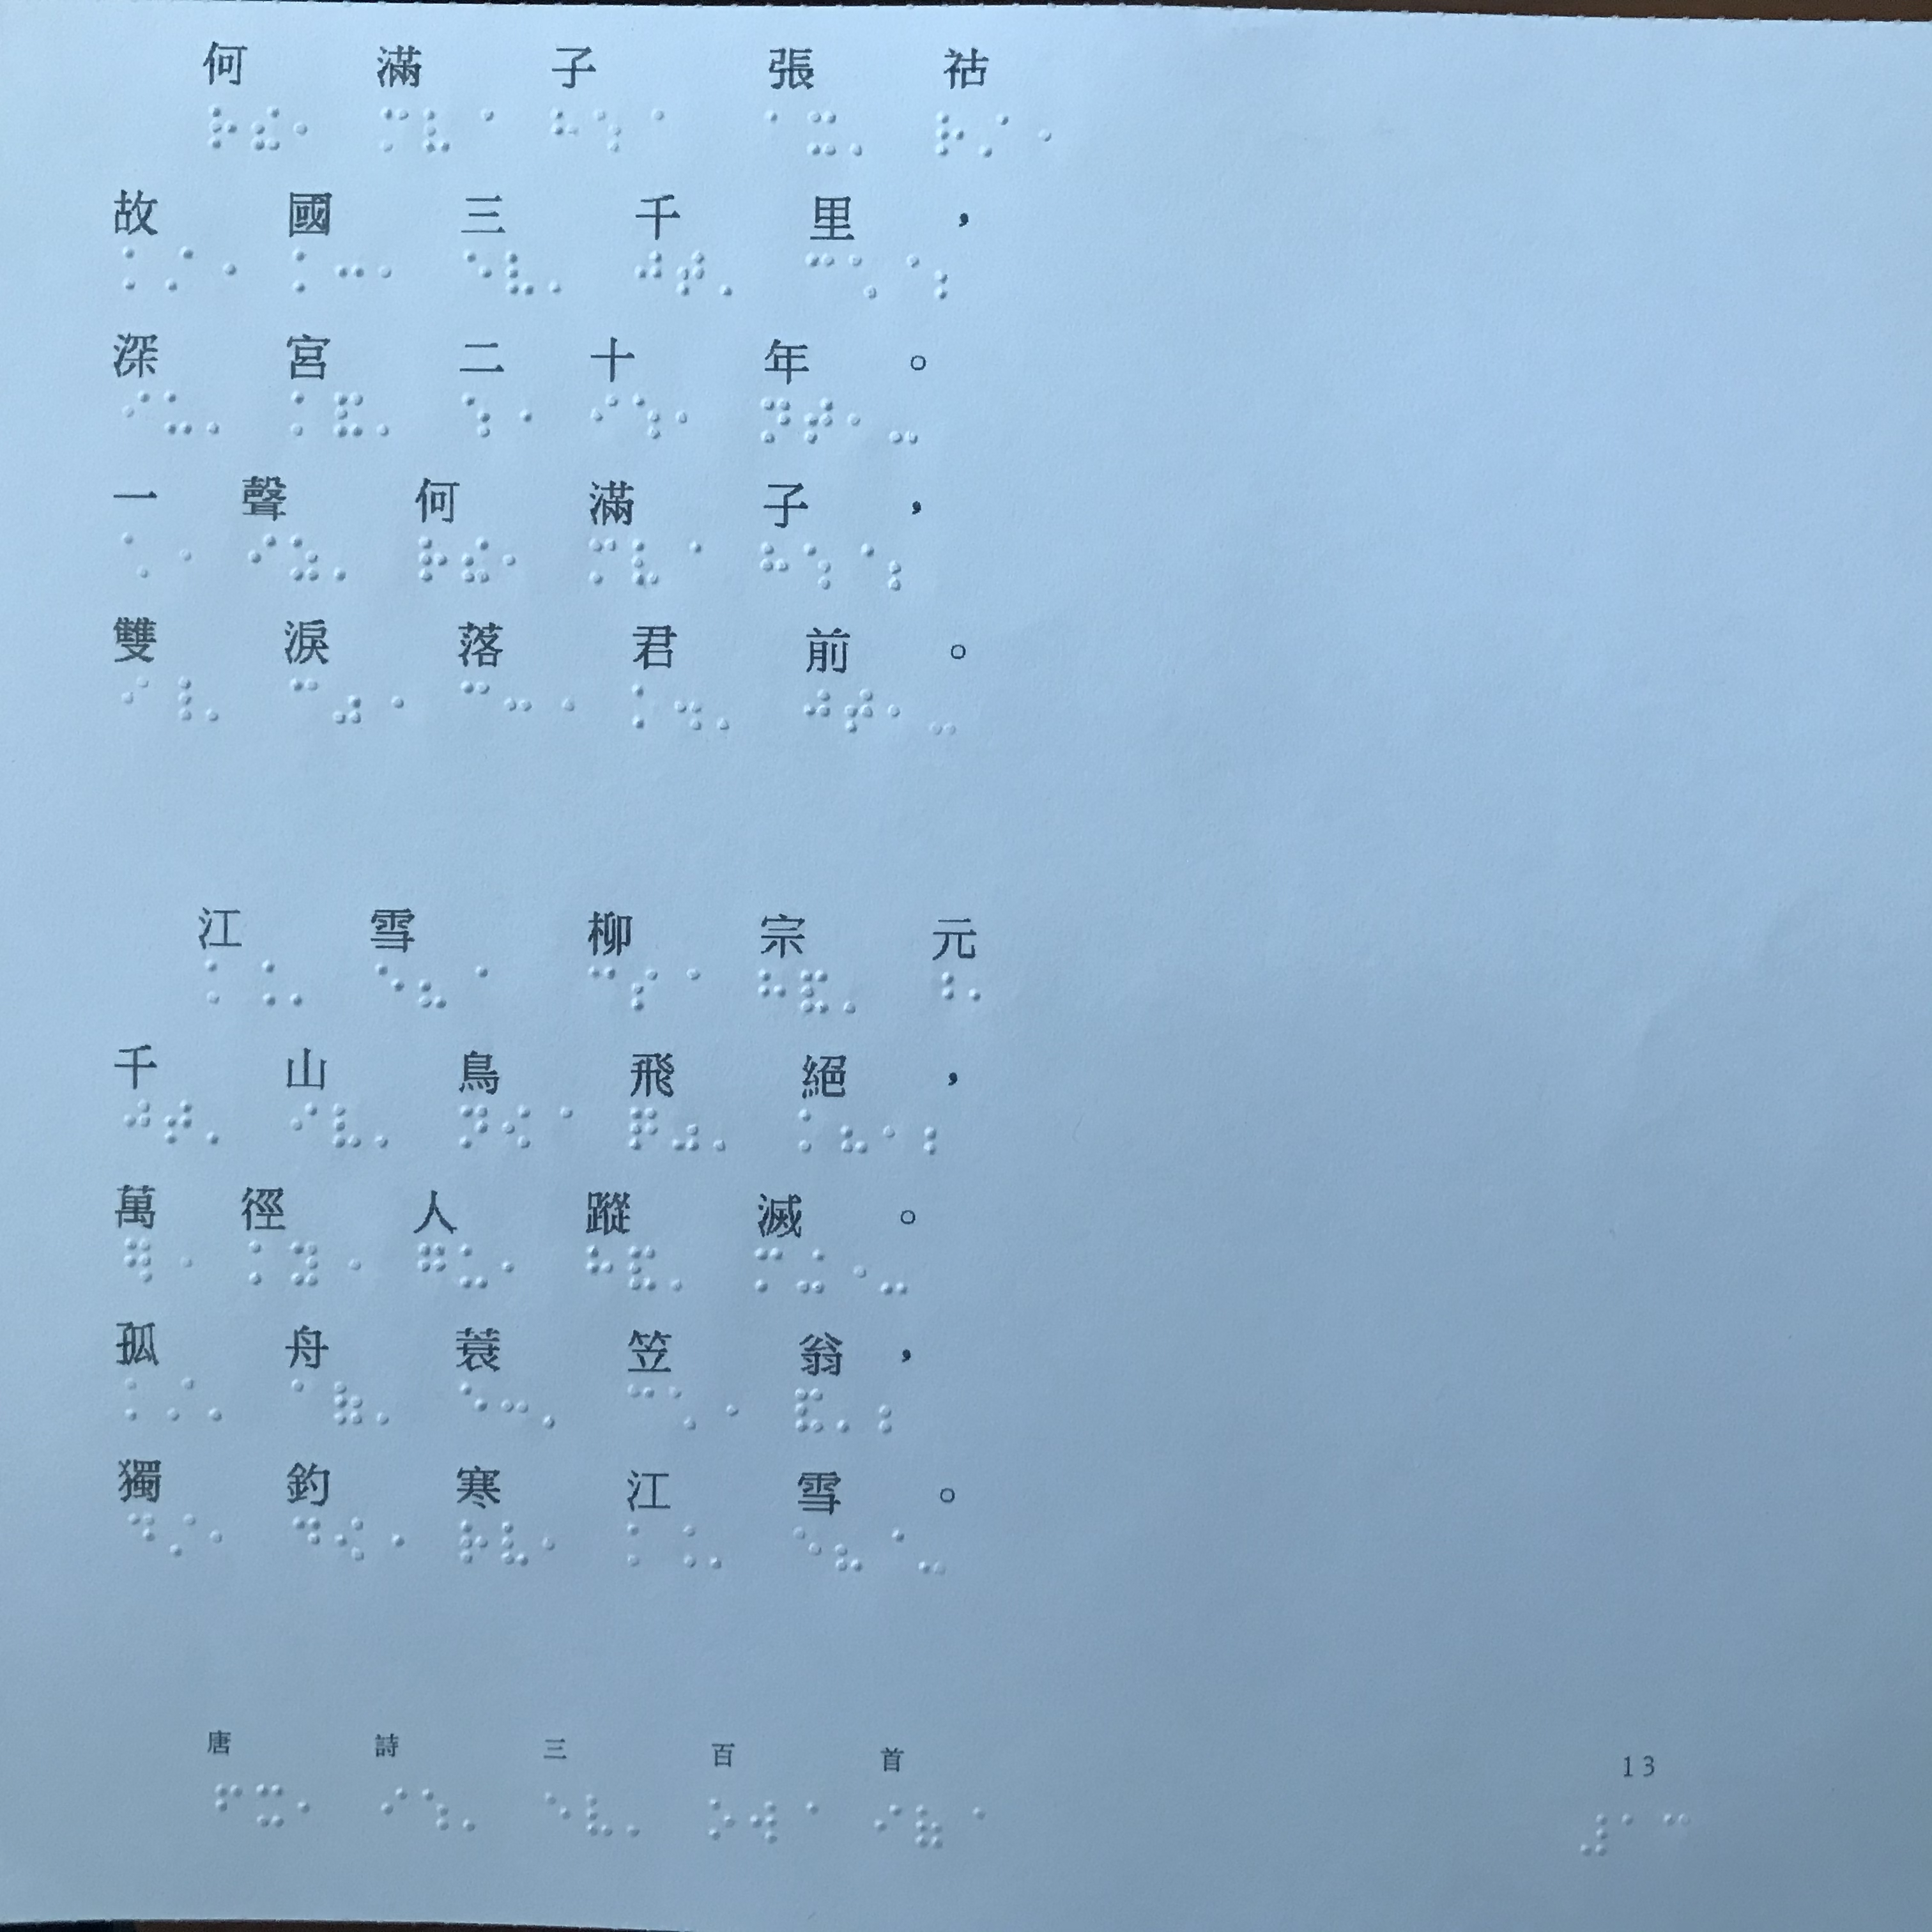Braille: (333, 389, 370, 442), (932, 249, 968, 304), (888, 398, 920, 453), (329, 676, 363, 727), (120, 529, 150, 586), (499, 1380, 531, 1433), (248, 103, 281, 152), (803, 540, 833, 594), (462, 391, 494, 442), (460, 534, 492, 586), (927, 688, 959, 740), (798, 964, 830, 1016), (628, 1104, 660, 1155), (456, 1242, 488, 1293), (794, 1385, 826, 1437), (456, 1518, 488, 1569), (499, 1518, 531, 1569), (665, 1523, 697, 1575), (759, 398, 794, 444), (163, 1376, 198, 1422), (885, 545, 918, 593), (761, 540, 789, 596), (936, 108, 966, 161), (587, 534, 617, 587), (122, 1233, 152, 1286), (506, 249, 538, 299), (676, 249, 708, 299), (805, 396, 837, 446), (842, 541, 874, 591), (667, 1385, 699, 1435), (127, 1509, 159, 1559), (504, 676, 533, 731), (1578, 1815, 1612, 1861), (809, 108, 839, 159), (849, 108, 879, 159), (290, 533, 320, 584), (161, 674, 191, 725), (257, 1782, 287, 1833), (763, 108, 794, 156), (458, 676, 490, 724), (203, 957, 235, 1005), (587, 964, 619, 1012), (288, 1242, 320, 1290), (881, 1251, 913, 1299), (165, 387, 193, 441), (423, 106, 453, 156), (379, 393, 409, 442), (591, 393, 621, 442), (373, 961, 403, 1010), (419, 961, 449, 1010), (333, 1100, 363, 1150), (628, 1244, 658, 1293), (747, 1798, 777, 1847), (888, 251, 920, 297), (120, 389, 152, 435), (927, 968, 959, 1014), (288, 1100, 320, 1146), (212, 1780, 244, 1826), (872, 1799, 904, 1845), (287, 389, 315, 441), (633, 393, 662, 444), (847, 396, 876, 448), (632, 538, 660, 589), (336, 1513, 364, 1564), (980, 111, 1010, 159), (288, 676, 318, 724), (846, 686, 876, 734), (163, 1097, 193, 1145), (209, 1380, 239, 1428), (878, 1389, 908, 1437), (625, 1522, 655, 1569), (708, 1525, 738, 1573), (853, 251, 879, 304), (628, 685, 660, 729), (628, 966, 660, 1010), (211, 103, 239, 152), (336, 249, 364, 299), (674, 538, 702, 587), (248, 957, 276, 1007), (502, 1102, 531, 1152), (672, 1106, 701, 1155), (793, 1525, 821, 1575), (835, 1527, 863, 1576), (915, 1801, 943, 1851), (165, 246, 195, 292), (120, 672, 150, 718), (669, 964, 699, 1010), (460, 1104, 490, 1150), (458, 1382, 488, 1428), (628, 1382, 658, 1428), (709, 1389, 740, 1435), (421, 1787, 451, 1833), (676, 393, 701, 448), (552, 108, 580, 156), (594, 108, 623, 156), (292, 249, 320, 297), (807, 249, 835, 297), (329, 536, 357, 584), (419, 533, 448, 580), (375, 678, 403, 725), (290, 959, 318, 1007), (757, 966, 786, 1014), (925, 1111, 954, 1159), (163, 1235, 191, 1283), (754, 1247, 782, 1295), (835, 1389, 863, 1437), (207, 1513, 235, 1560), (920, 1530, 948, 1578), (587, 1794, 616, 1842), (957, 1801, 985, 1849), (1663, 1810, 1691, 1858), (635, 108, 665, 152), (290, 1376, 320, 1421), (294, 104, 320, 154), (465, 104, 492, 154), (203, 389, 230, 439), (165, 531, 191, 580), (248, 531, 274, 580), (547, 678, 573, 727), (676, 685, 702, 734), (246, 1237, 272, 1286), (336, 1378, 363, 1428), (1023, 117, 1051, 163), (840, 1109, 869, 1155), (798, 1249, 826, 1295), (122, 1378, 150, 1424), (375, 1382, 403, 1428), (541, 1385, 570, 1431), (292, 1516, 320, 1562), (876, 1527, 904, 1573), (708, 1796, 736, 1842), (502, 536, 527, 587), (888, 683, 913, 734), (211, 246, 237, 294), (465, 246, 492, 294), (506, 393, 533, 441), (968, 970, 994, 1017), (715, 1108, 741, 1155), (172, 1511, 198, 1559), (635, 249, 663, 294), (839, 1251, 867, 1295), (380, 1785, 409, 1829), (791, 1798, 819, 1842), (379, 248, 403, 297), (207, 676, 232, 725), (587, 1244, 612, 1293), (460, 1794, 490, 1835), (382, 106, 409, 152), (122, 246, 149, 292), (462, 961, 488, 1007), (842, 971, 869, 1017), (798, 1108, 824, 1154), (419, 1242, 446, 1288), (667, 1249, 694, 1295), (540, 1520, 566, 1566), (548, 251, 577, 294), (377, 1518, 405, 1560), (805, 688, 830, 736), (205, 1099, 230, 1146), (502, 1246, 527, 1293), (1624, 1810, 1649, 1858), (718, 688, 743, 734), (124, 1095, 150, 1138), (720, 253, 745, 297), (375, 1106, 400, 1150), (547, 1102, 571, 1146), (881, 1111, 906, 1155), (628, 1796, 653, 1840), (336, 1246, 361, 1288), (545, 1792, 570, 1835), (297, 1785, 320, 1829)
